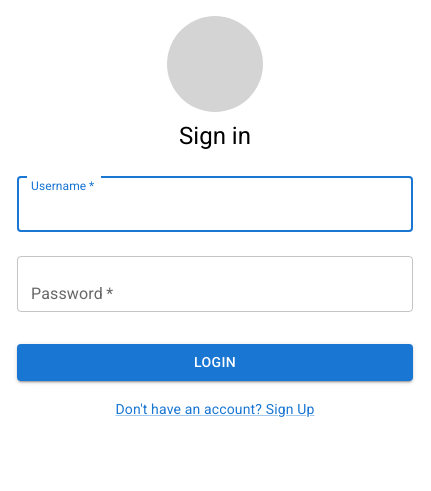
Test case: Login › shows soft feedback for server errors
Type "alice" into the field labelled "Username *" at (215, 204), box [17,176,413,232]
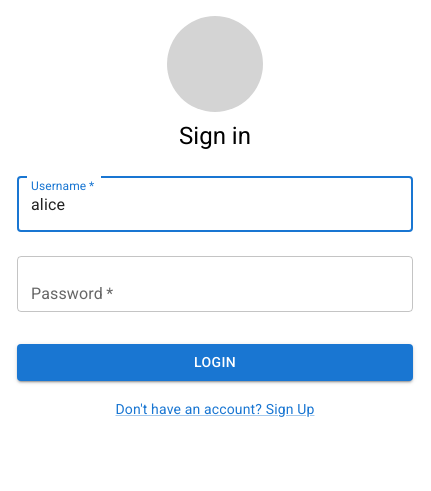
Type "secret12" into the password field labelled "Password *" at (215, 284), box [17,256,413,312]
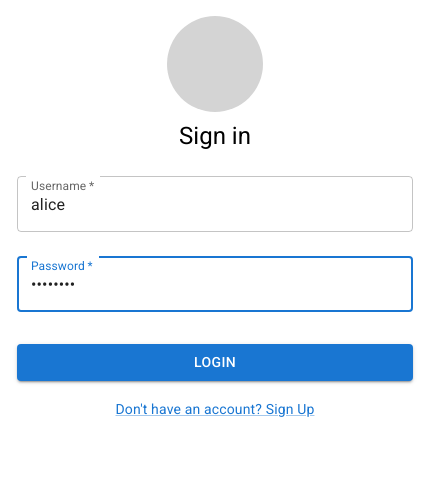
Click the button "Login" at (215, 362), box [17,344,413,380]
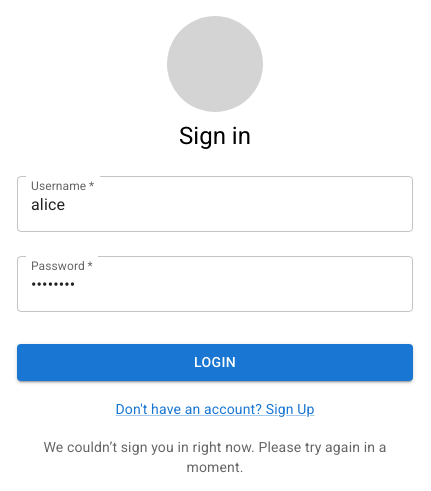
Result: the text "couldn’t sign you in right now" is shown at [44,438,387,474]
